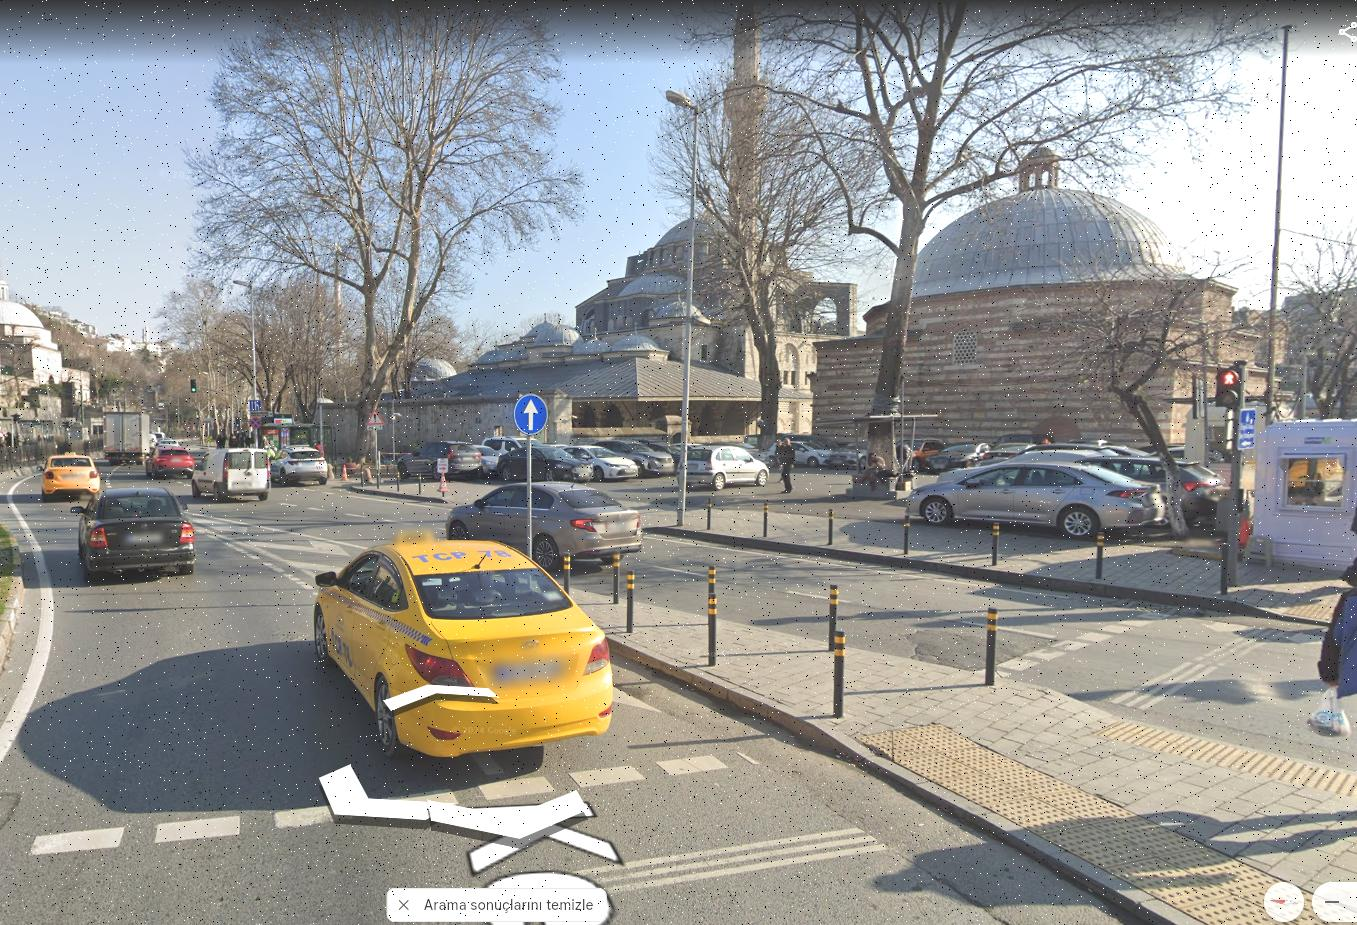forward: (511, 391, 552, 438)
